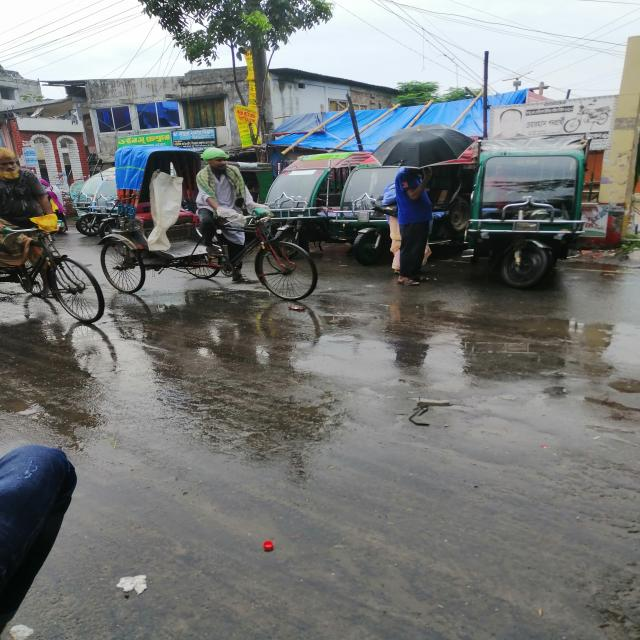Easybike: (472, 142, 592, 292)
Rickshaw: (100, 144, 322, 298)
